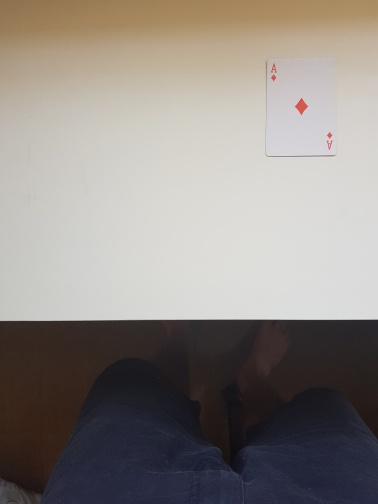ace: (263, 55, 340, 160)
